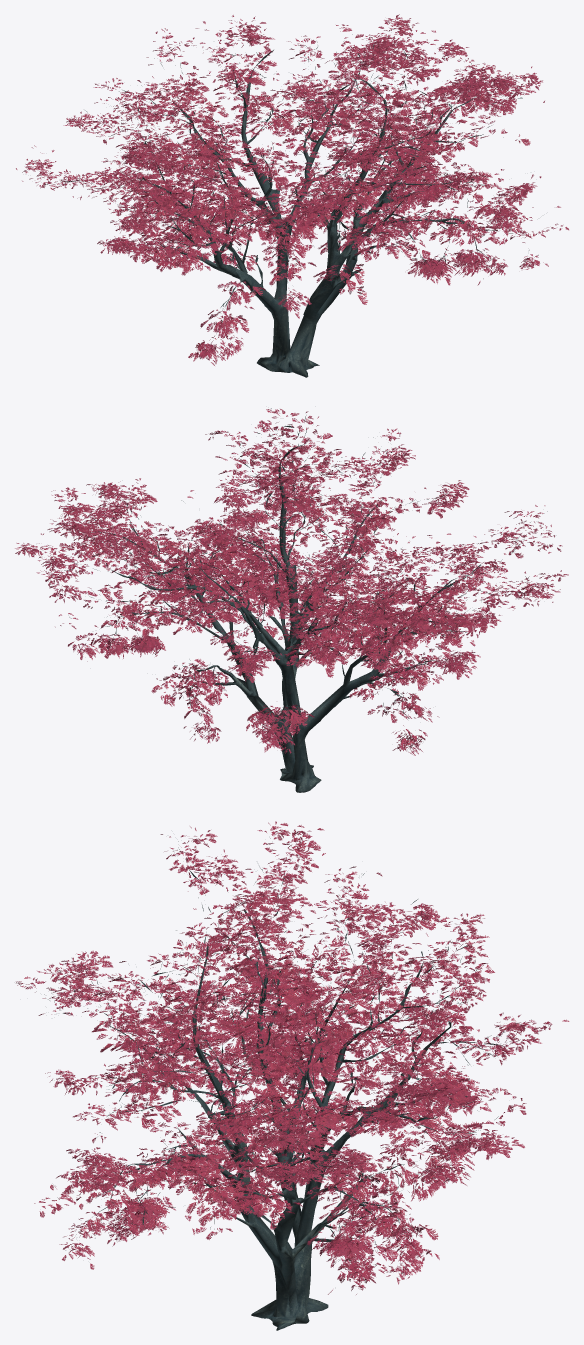
File: canopy-near.glb
The picture shows the model from 3 angles, top to bottom: view 1: azimuth 30°, elevation 25°; view 2: azimuth 150°, elevation 25°; view 3: azimuth 270°, elevation 25°; orthographic projection. The views are drawn at different scales.
Parts seen in each view (by area): view 1: jacaranda_tree_LOD0; view 2: jacaranda_tree_LOD0; view 3: jacaranda_tree_LOD0.
Boxes of the visible parts, <box> form: jacaranda_tree_LOD0: <box>16,14,568,377</box>; jacaranda_tree_LOD0: <box>15,408,568,792</box>; jacaranda_tree_LOD0: <box>16,821,569,1330</box>.
Bounding box in the file's own units: 33.34 × 20.41 × 24.7.
Materials: 3 (3 with a texture image).
